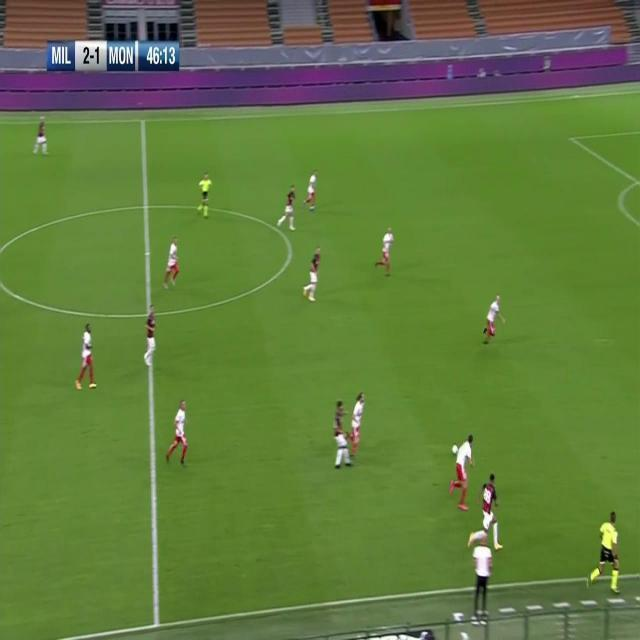ball: (451, 443, 460, 455)
player: (470, 473, 505, 551), (449, 433, 477, 511), (165, 399, 190, 469), (75, 321, 98, 391), (471, 541, 492, 616), (332, 400, 350, 471), (481, 291, 505, 344), (348, 391, 365, 462), (302, 245, 322, 303), (162, 236, 182, 290), (277, 184, 298, 232), (376, 225, 395, 276), (143, 305, 158, 367), (303, 170, 319, 213), (33, 118, 50, 156)
referee: (588, 507, 624, 599), (197, 170, 213, 219)
